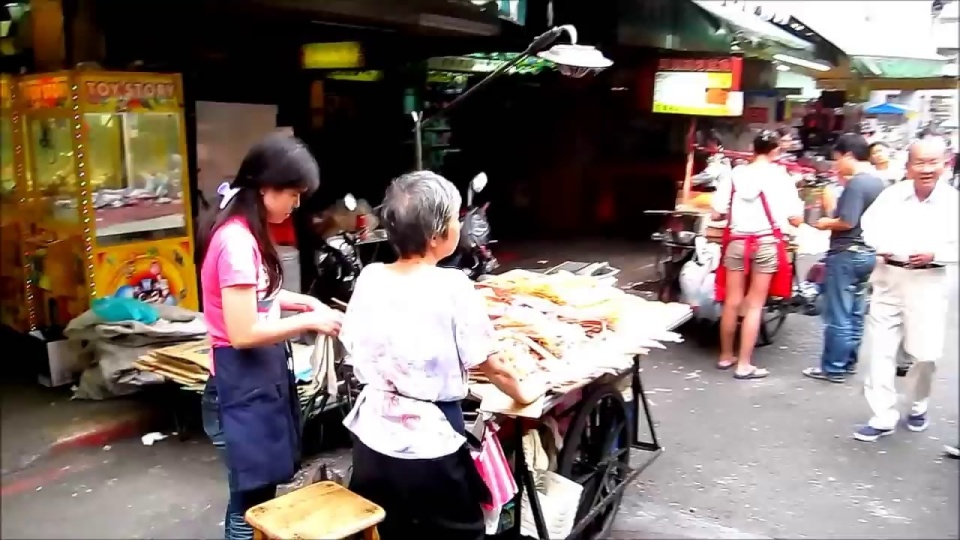person_head: (378, 167, 471, 261), (234, 127, 319, 226), (904, 139, 945, 193), (831, 132, 866, 177), (753, 127, 777, 161), (868, 139, 893, 167), (700, 127, 724, 155), (774, 125, 794, 150), (917, 126, 940, 140)
person_vbox: (327, 168, 532, 539), (195, 128, 336, 539), (848, 139, 950, 442), (714, 126, 804, 377), (803, 132, 875, 384), (673, 129, 732, 217), (772, 123, 798, 182), (867, 140, 901, 184), (948, 148, 960, 192)
